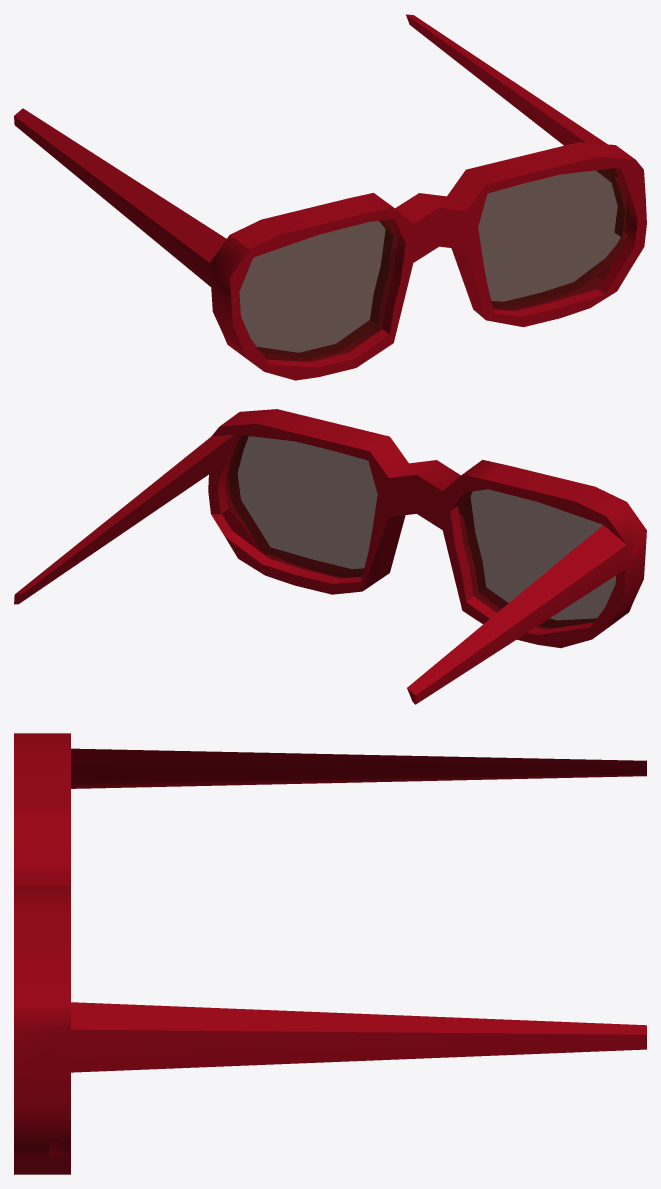
File: sunglasses.fbx
3 views of the same model, one above another, from view 1: azimuth 30°, elevation 25°; view 2: azimuth 150°, elevation 25°; view 3: azimuth 270°, elevation 25° (orthographic). The views are drawn at different scales.
Visible parts, largest first — view 1: pCube1; view 2: pCube1; view 3: pCube1.
Part boxes in pixels (box(x1,y1,x2,y2)): pCube1: box(14, 14, 646, 380); pCube1: box(14, 409, 646, 704); pCube1: box(14, 733, 646, 1174).
Size of the model in its own units: 1.68 by 0.5838 by 1.55.
